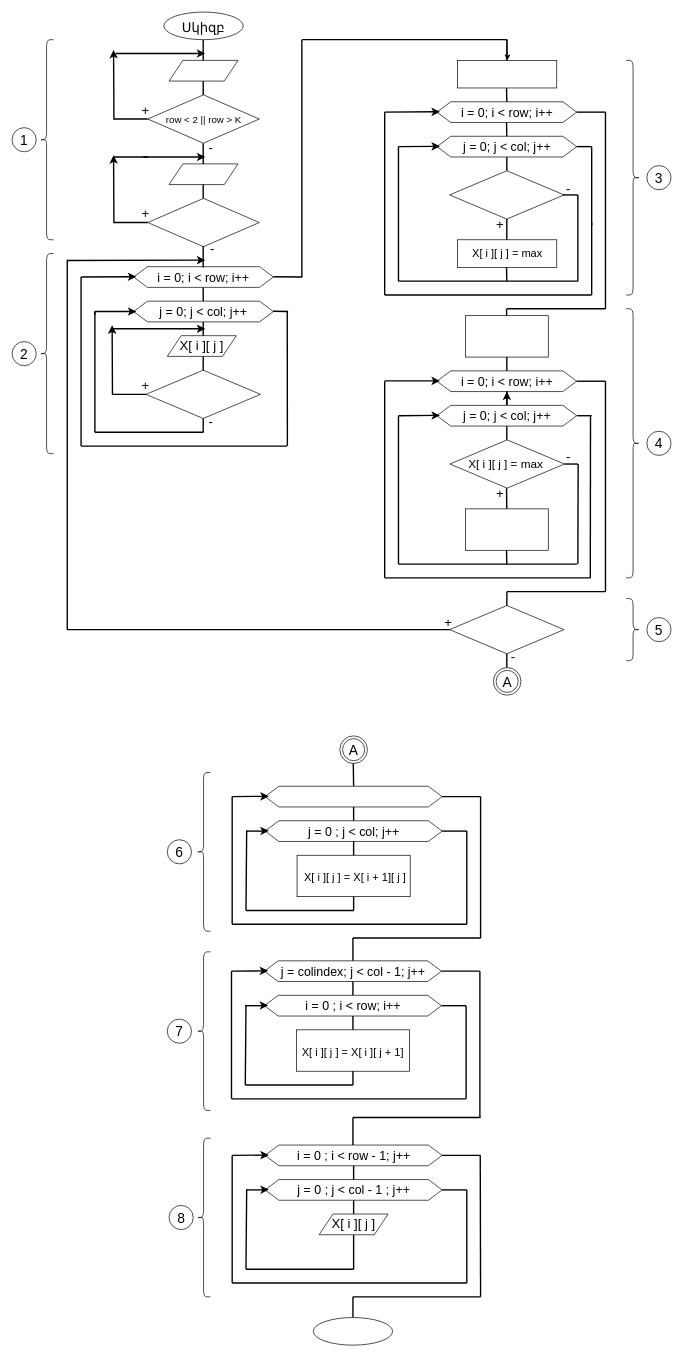
The diagram is 683 pixels wide and 1357 high, and some of its shapes have lost their labels. Here are the shapes that lost their labels. From the top down, the centre of each, then its label:
At (x=203, y=70): "row".
At (x=507, y=74): "int max = X[0][0]".
At (x=203, y=174): "col".
At (x=506, y=194): "X[ i ][ j ] > max".
At (x=203, y=222): "col < 2 || col > K".
At (x=506, y=336): "counter = 0 rowindex = 0 colindex = 0".
At (x=202, y=393): "X[ i ][ j ] ≤ 0".
At (x=506, y=529): "counter ++ rowindex = i colindex = j".
At (x=506, y=629): "counter ! = 1".
At (x=353, y=796): "i = rowindex; i < row - 1; i++".
At (x=353, y=1331): "Ավարտ".
